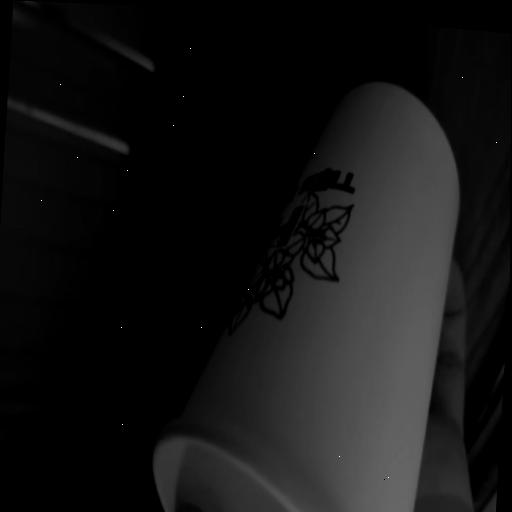Ly_giay: (152, 82, 459, 512)
